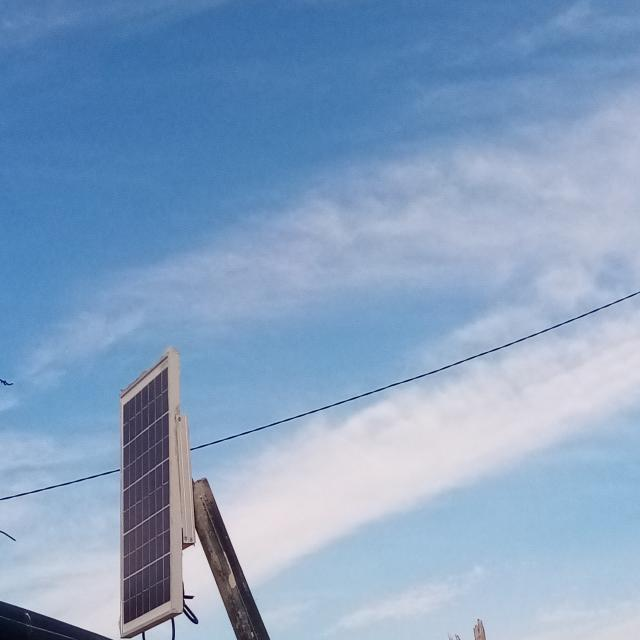no faulty: (120, 353, 172, 635)
